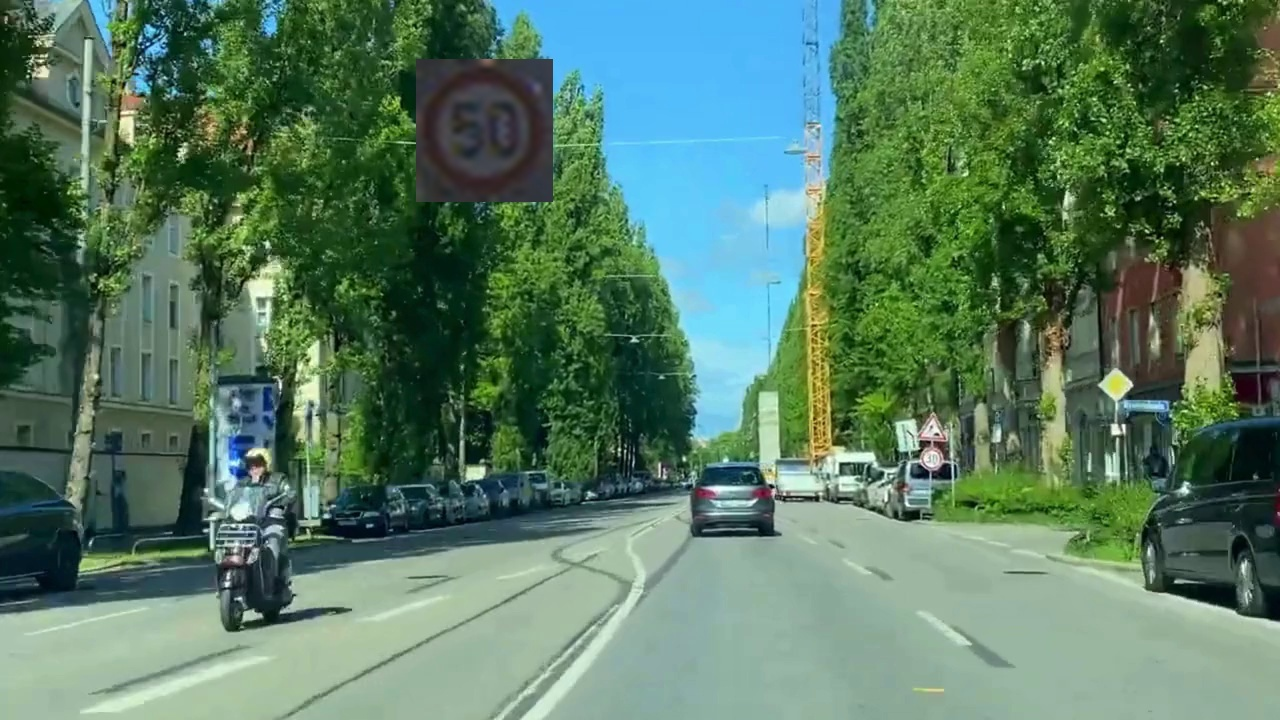Speed 50: (416, 59, 553, 202)
